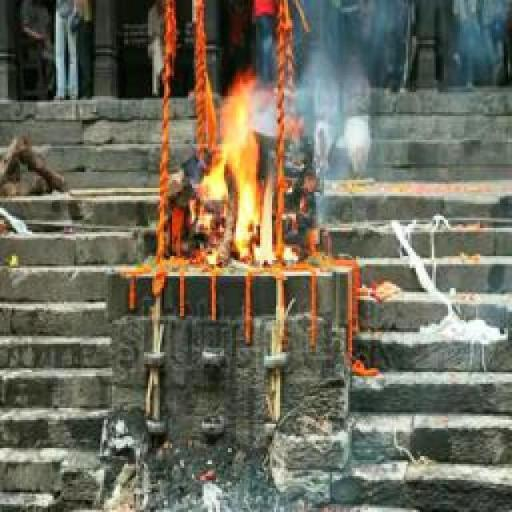smoke: (199, 82, 280, 270)
